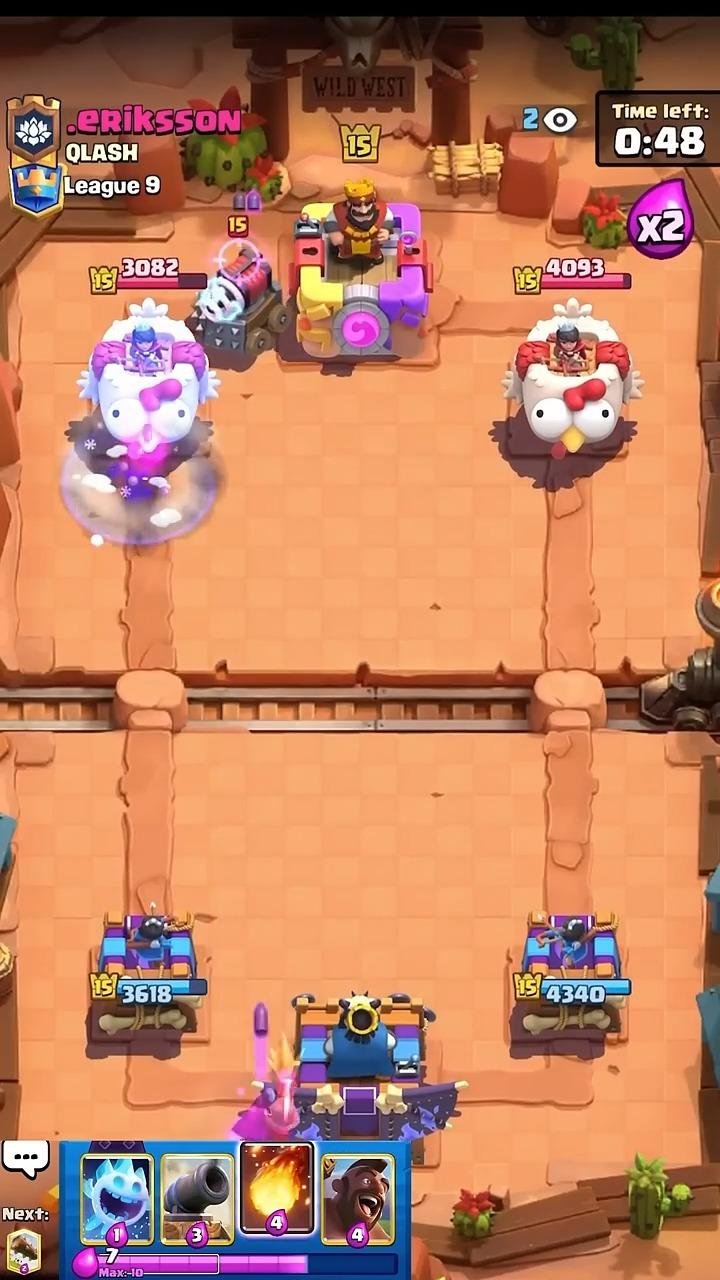musketeer: (230, 1035, 299, 1142)
sparky: (187, 240, 289, 370)
